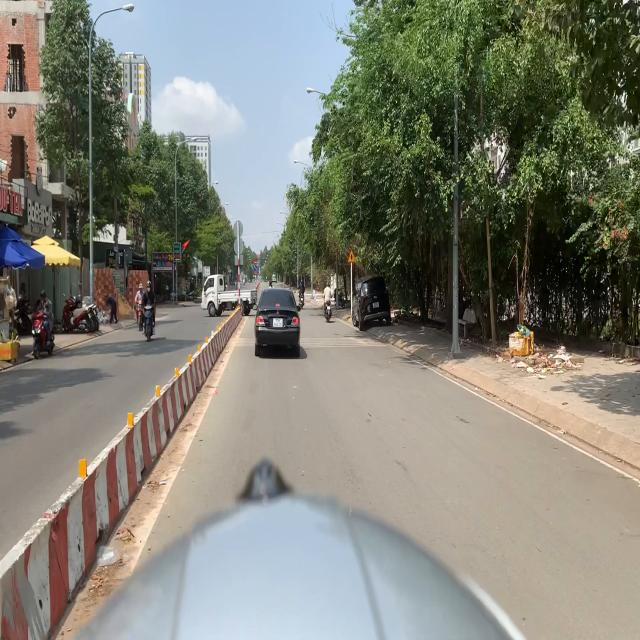Cam nguoc chieu: (254, 259, 257, 265)
Giao voi duong khong uu tien: (346, 249, 356, 264)
Hieu lenh: (254, 266, 257, 270)
